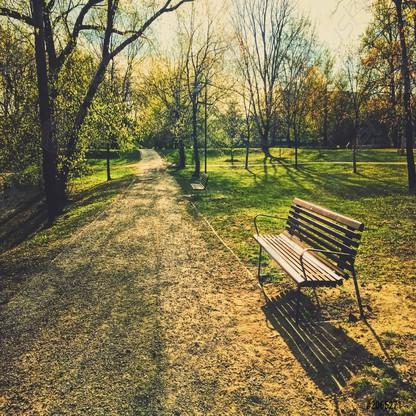obstacle: (243, 194, 373, 322)
